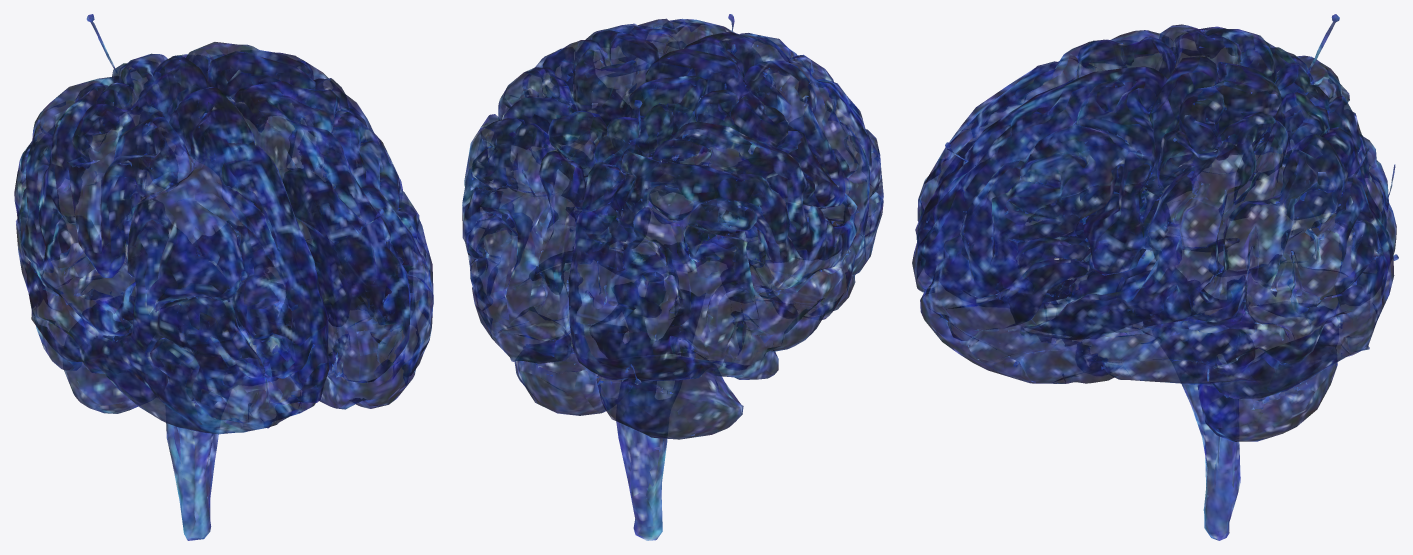
The model's file is ai-mobile.glb.
3 renders of one model, left to right at view 1: azimuth 30°, elevation 25°; view 2: azimuth 150°, elevation 25°; view 3: azimuth 270°, elevation 25°, orthographic.
Parts seen in each view (by area): view 1: Mesh_0; view 2: Mesh_0; view 3: Mesh_0.
Part boxes in pixels (box(x1,y1,x2,y2)): Mesh_0: box(14, 14, 433, 540); Mesh_0: box(462, 14, 883, 540); Mesh_0: box(912, 14, 1398, 540).
Bounding box in the file's own units: 1.34 × 1.89 × 1.66.
Materials: 1 (1 with a texture image).
